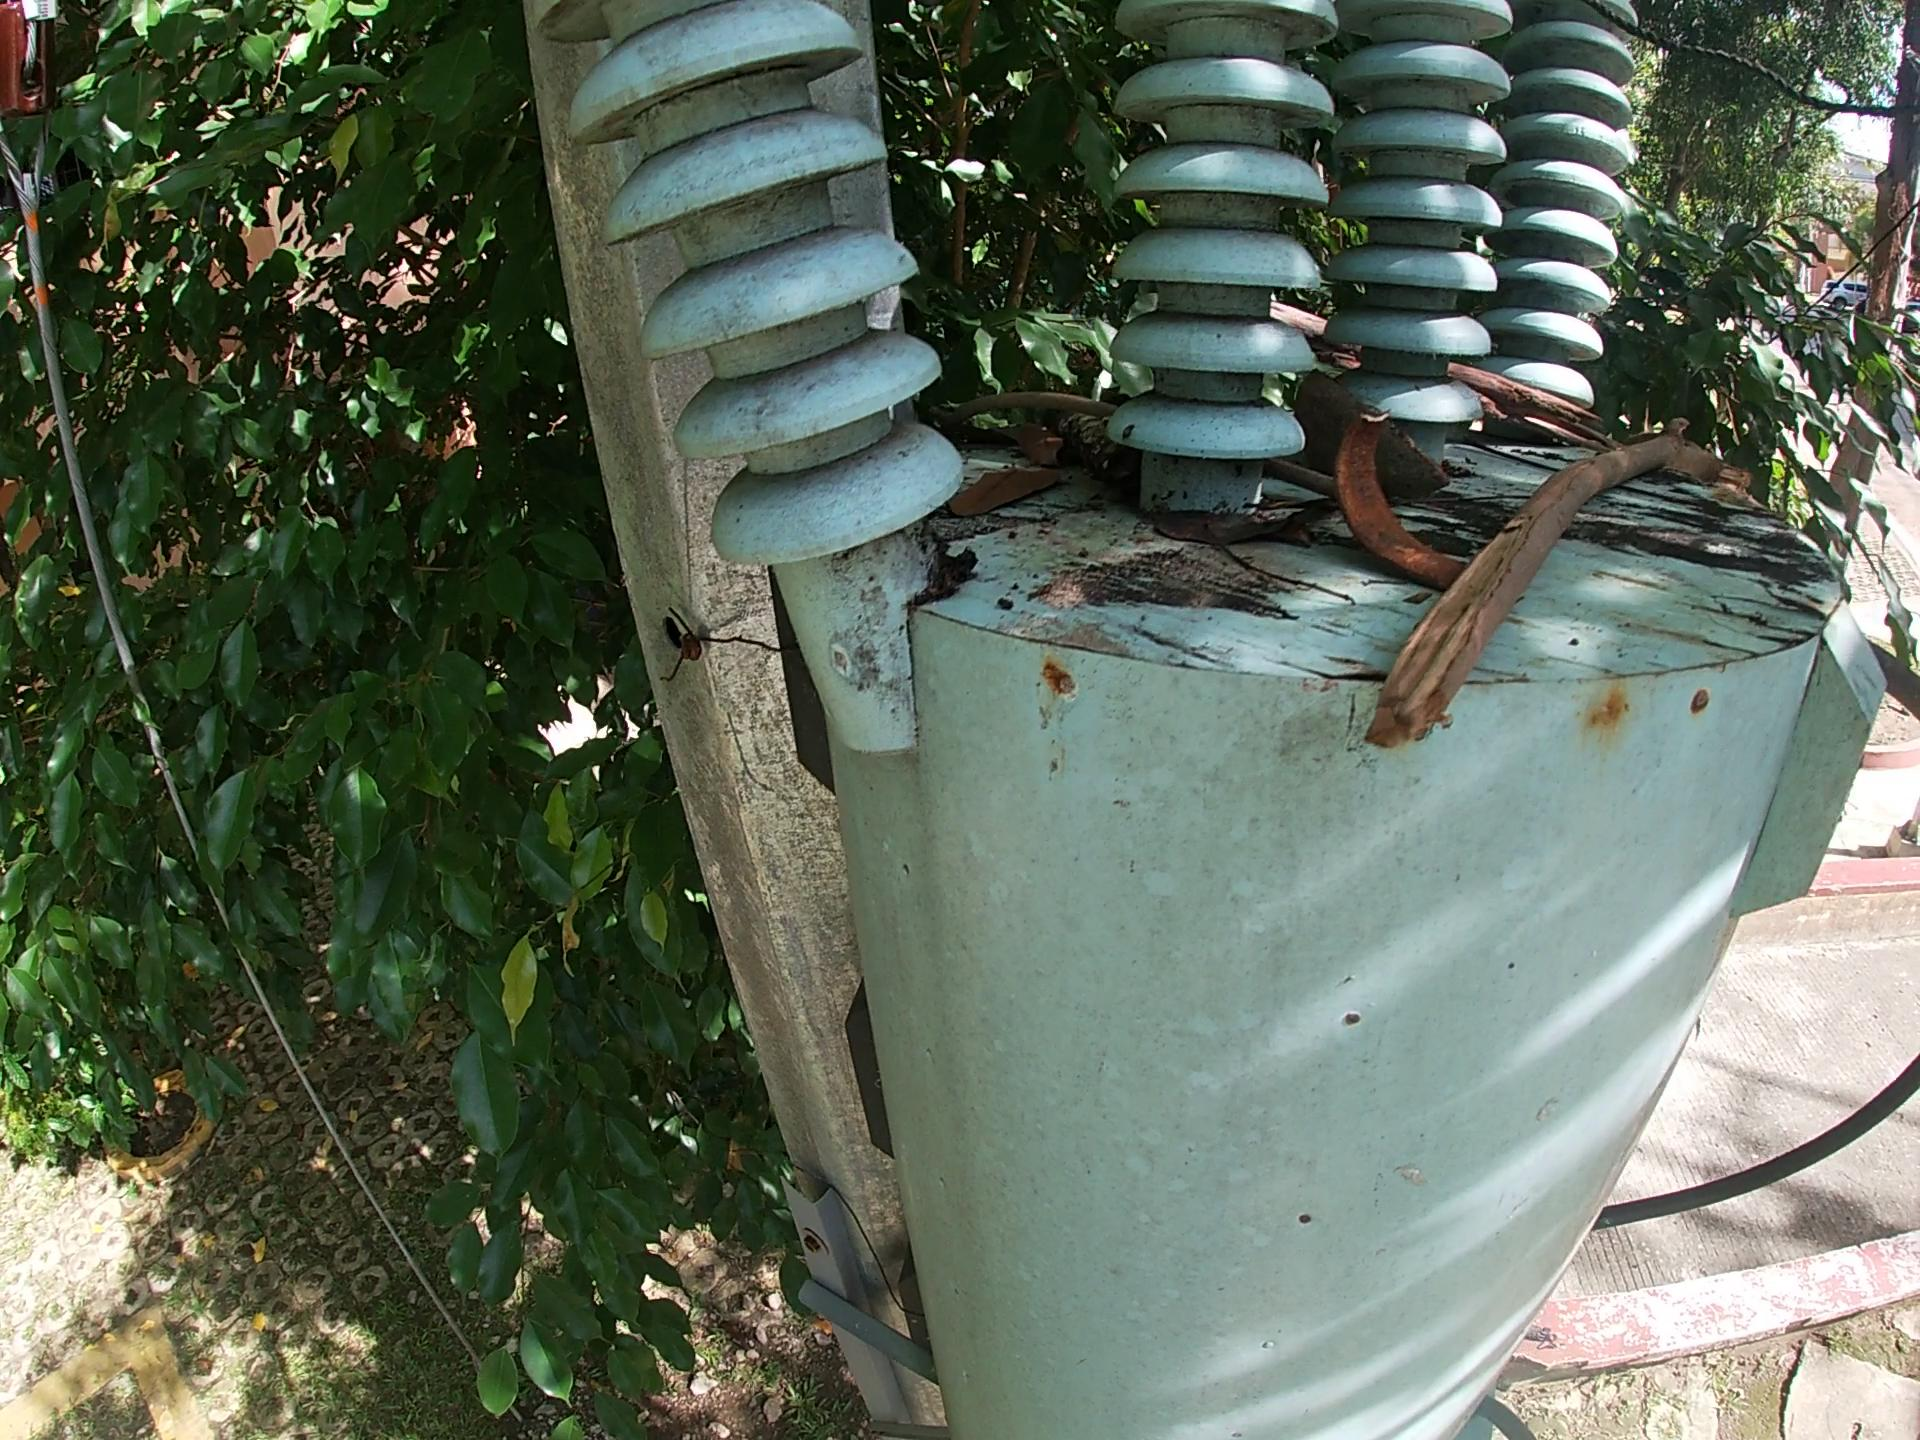leaf: (946, 466, 1063, 519), (1150, 493, 1212, 538)
mahogany fruit: (1336, 408, 1468, 585), (1287, 384, 1454, 505)
tree branch: (1336, 421, 1773, 762), (1473, 439, 1761, 523), (1175, 538, 1386, 634), (1451, 369, 1628, 455), (930, 390, 1128, 430), (1273, 309, 1362, 371), (1219, 511, 1339, 555), (1051, 413, 1131, 473), (1259, 455, 1344, 501)
